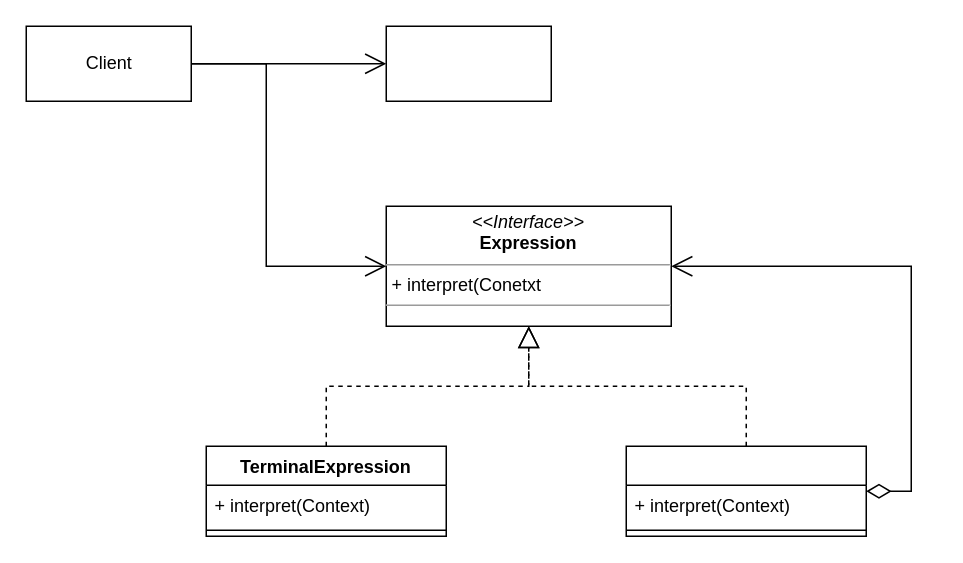
The diagram is 963 pixels wide and 563 high, and some of its shapes have lost their labels. The shapes that lost their labels are listed below. From the top down, each one's box as (x1, y1, x2, y2) in pixels, then its label:
(385, 25, 551, 101): Context
(625, 445, 866, 536): NonTerminalExpression
